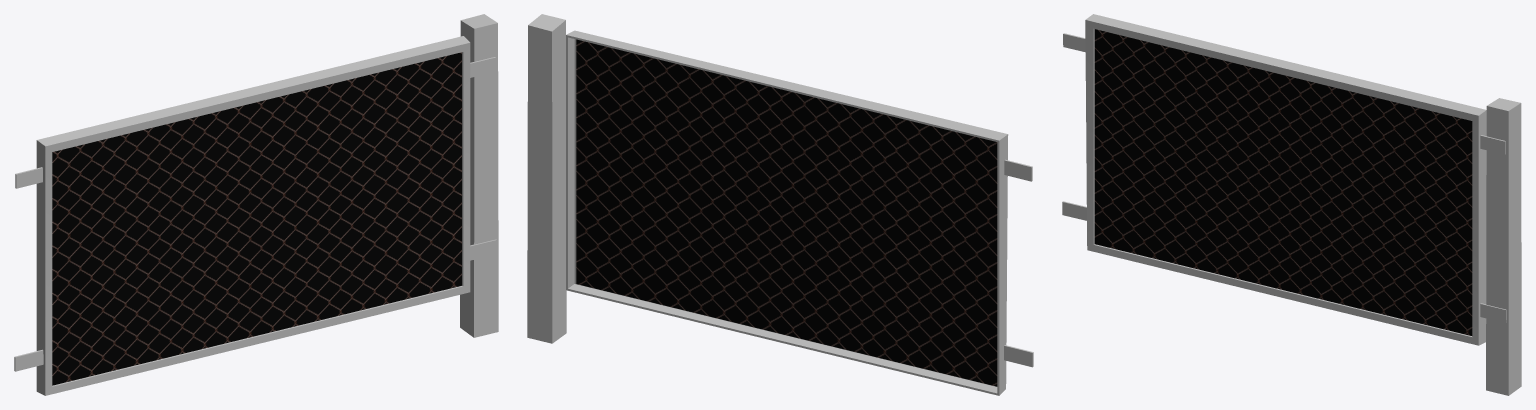
File: Wire_fence.FBX
The picture shows the model from 3 angles, left to right: view 1: azimuth 30°, elevation 25°; view 2: azimuth 150°, elevation 25°; view 3: azimuth 330°, elevation 25°; orthographic projection. The views are drawn at different scales.
Parts seen in each view (by area): view 1: setka, zabor_setka, zabor_stolbik; view 2: setka, zabor_setka, zabor_stolbik; view 3: setka, zabor_setka, zabor_stolbik.
Boxes of the visible parts, bbox=[...] form: setka: bbox=[52, 52, 461, 385]; zabor_setka: bbox=[14, 36, 496, 395]; zabor_stolbik: bbox=[460, 14, 498, 337]; setka: bbox=[576, 39, 997, 386]; zabor_setka: bbox=[566, 30, 1033, 395]; zabor_stolbik: bbox=[527, 14, 566, 343]; setka: bbox=[1094, 29, 1472, 335]; zabor_setka: bbox=[1062, 14, 1506, 345]; zabor_stolbik: bbox=[1486, 98, 1521, 395].
Size of the model in its own units: 2.62 by 1.6 by 0.1626.
